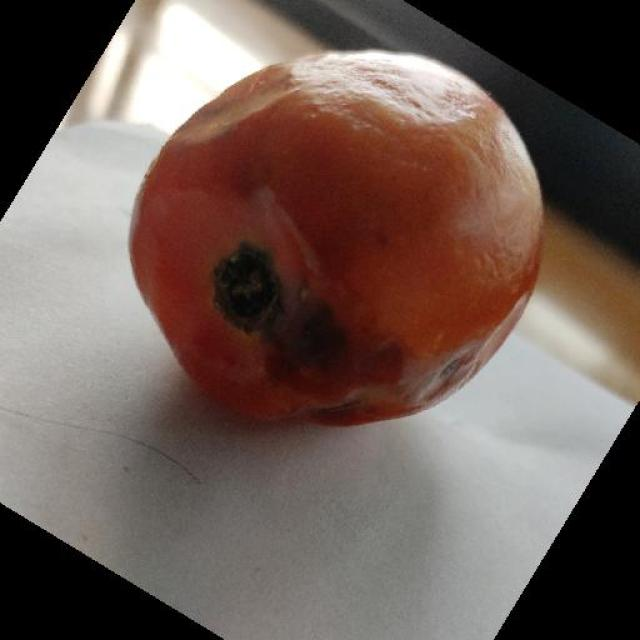Stale_tomato: (138, 64, 516, 401)
